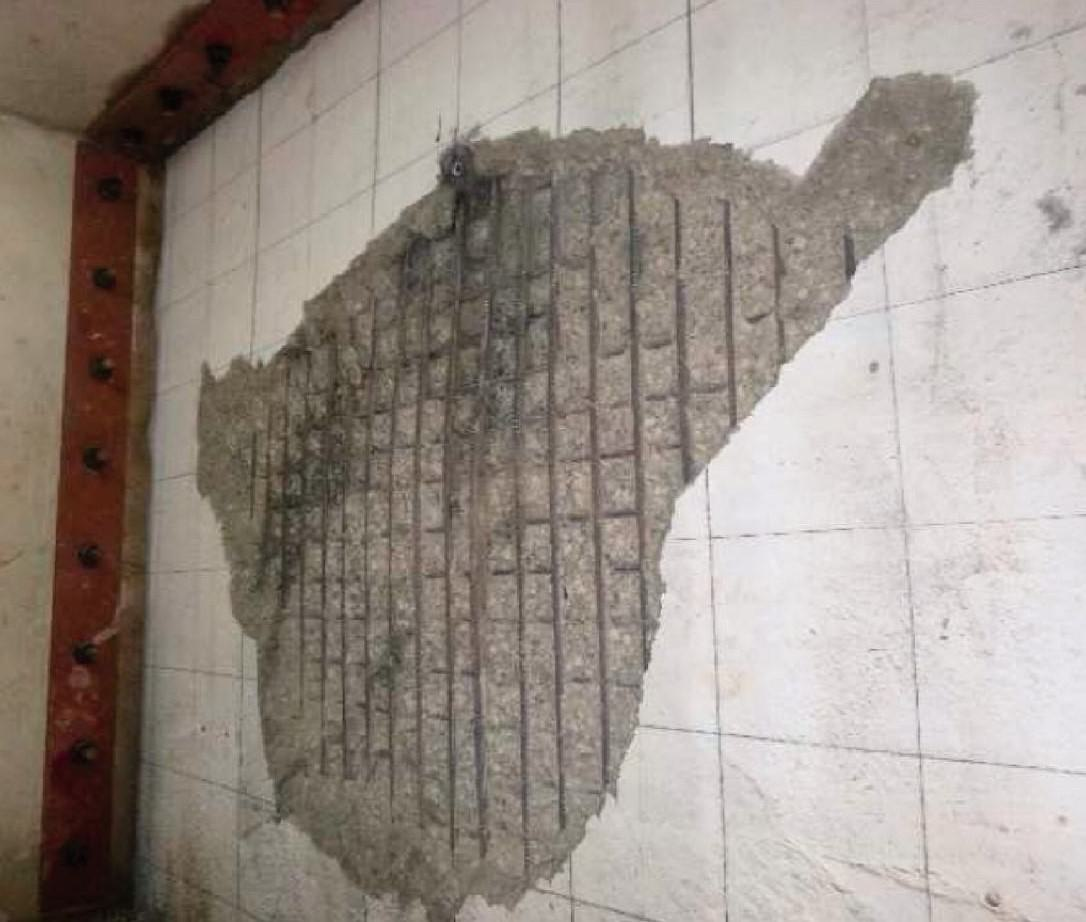Exposed reinforcement: (276, 381, 727, 477), (268, 444, 682, 508), (305, 301, 551, 398), (467, 174, 500, 860), (295, 360, 551, 436), (443, 198, 467, 870), (386, 177, 554, 267), (387, 238, 412, 800), (588, 170, 610, 792), (371, 259, 556, 332), (413, 258, 436, 831), (546, 167, 565, 829), (304, 507, 640, 544), (516, 180, 533, 879), (627, 169, 648, 671), (341, 314, 357, 782), (320, 331, 336, 778), (282, 565, 642, 584), (365, 294, 378, 785), (298, 349, 311, 715), (282, 612, 645, 625), (310, 655, 478, 678), (256, 404, 274, 592), (278, 366, 291, 608), (336, 699, 453, 722), (249, 429, 256, 518)
Spalling: (195, 71, 980, 922)
